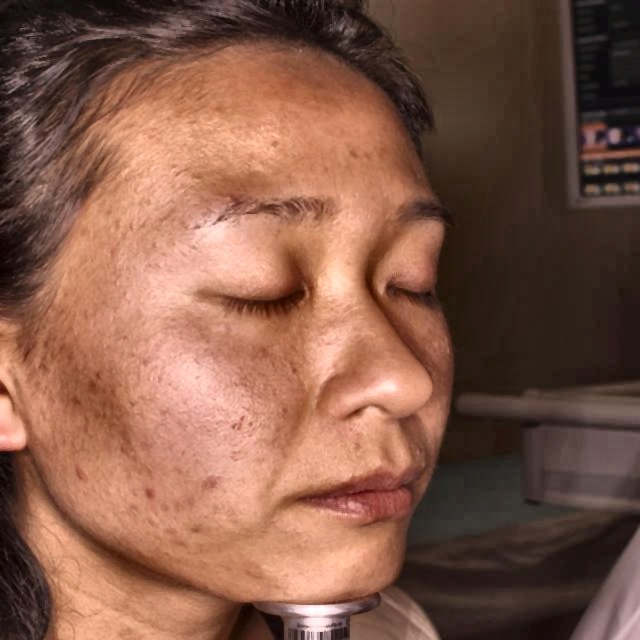comedone: (68, 465, 90, 485), (139, 481, 160, 499)
